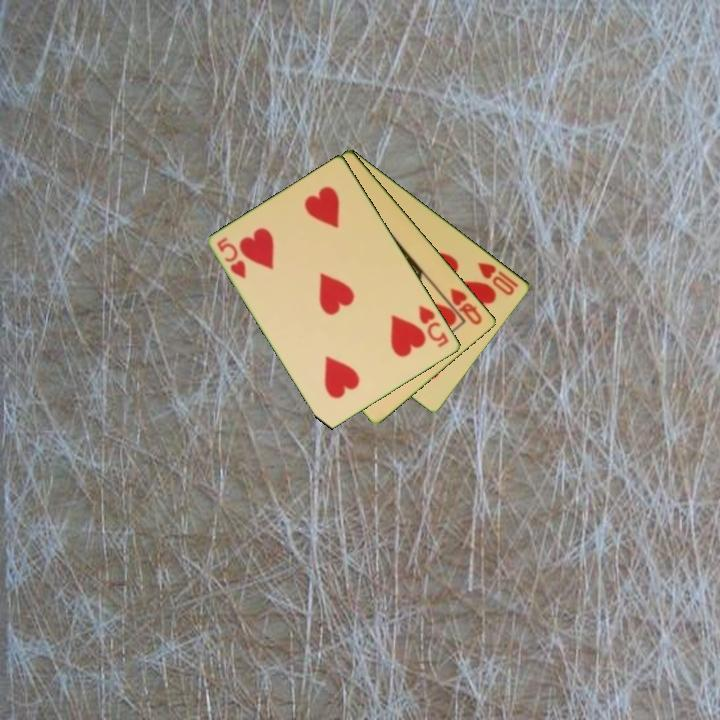10h: (474, 259, 522, 299)
5h: (415, 302, 452, 350), (214, 234, 249, 282)
Qh: (447, 284, 486, 328)
